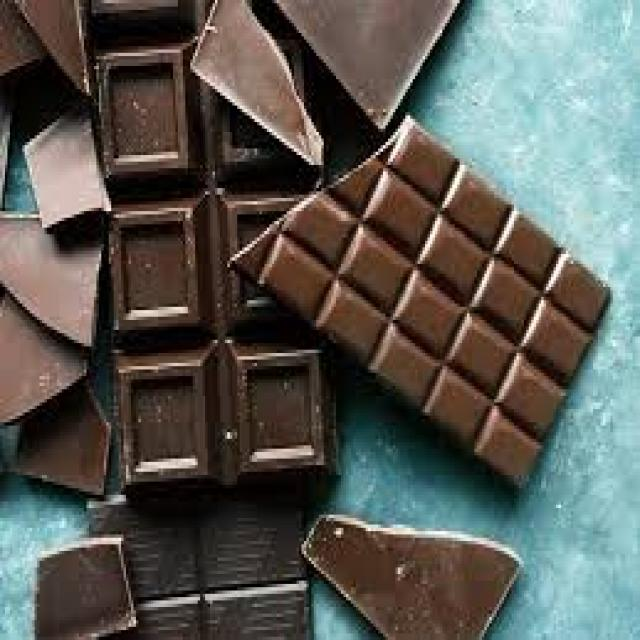Chocolate: (0, 0, 614, 640)
